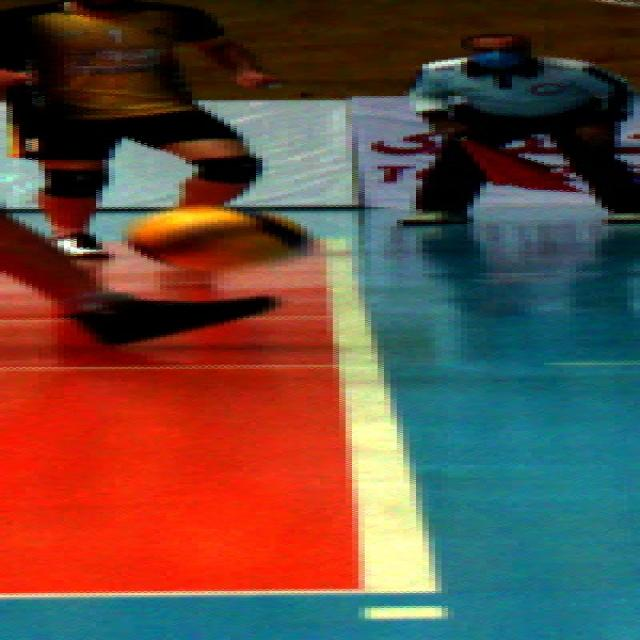Volleyball: (128, 205, 317, 268)
